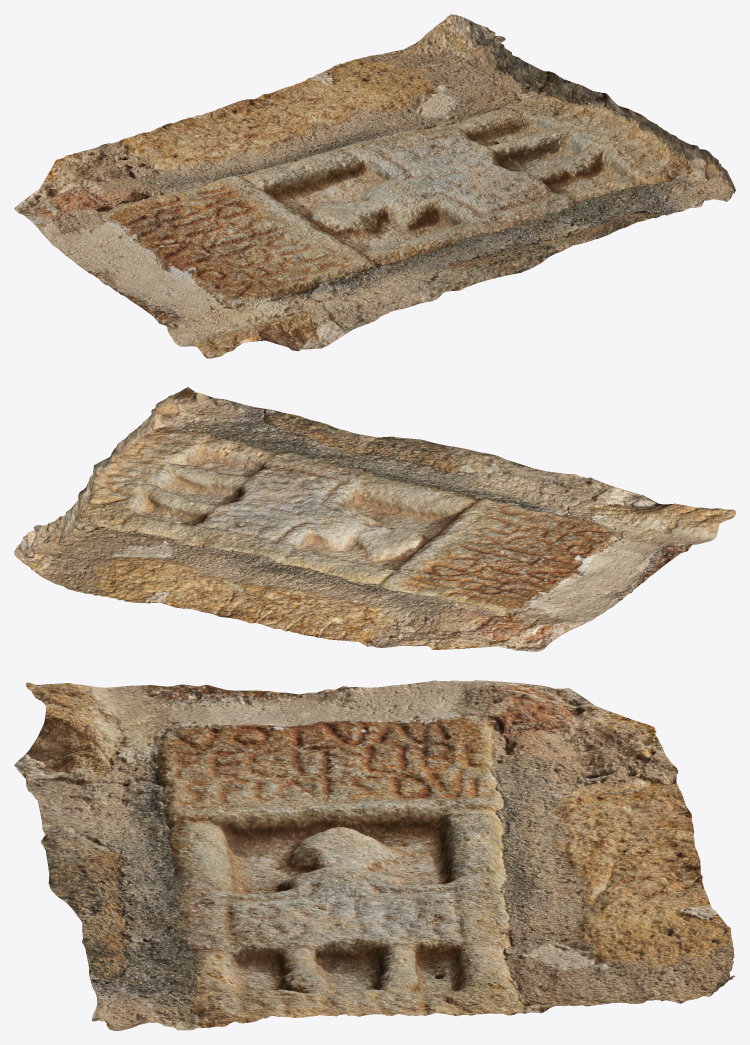
The model's file is Ara_muerte_pelona_Tejeda_2.glb.
3 renders of one model, top to bottom at view 1: azimuth 30°, elevation 25°; view 2: azimuth 150°, elevation 25°; view 3: azimuth 270°, elevation 25°, orthographic. The views are drawn at different scales.
Bounding box in the file's own units: 3.29 × 0.2355 × 2.76.
1 material, 1 textured.
